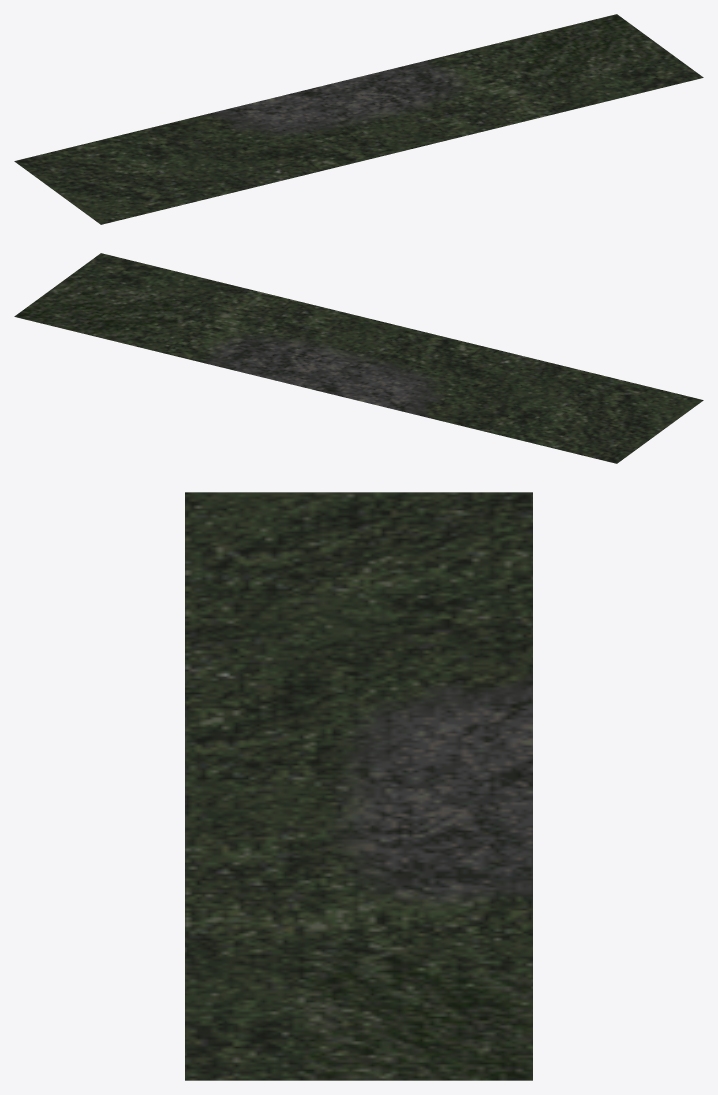
Rendered from SM_EC_Path_Mud_03.fbx.
The picture shows the model from 3 angles, top to bottom: view 1: azimuth 30°, elevation 25°; view 2: azimuth 150°, elevation 25°; view 3: azimuth 270°, elevation 25°; orthographic projection. The views are drawn at different scales.
Visible parts, largest first — view 1: SM_EC_Path_Mud_03; view 2: SM_EC_Path_Mud_03; view 3: SM_EC_Path_Mud_03.
Part boxes in pixels (bbox=[...]): SM_EC_Path_Mud_03: bbox=[14, 14, 703, 224]; SM_EC_Path_Mud_03: bbox=[14, 253, 703, 463]; SM_EC_Path_Mud_03: bbox=[185, 492, 532, 1080].
Bounding box in the file's own units: 4 × 1 × 0.
